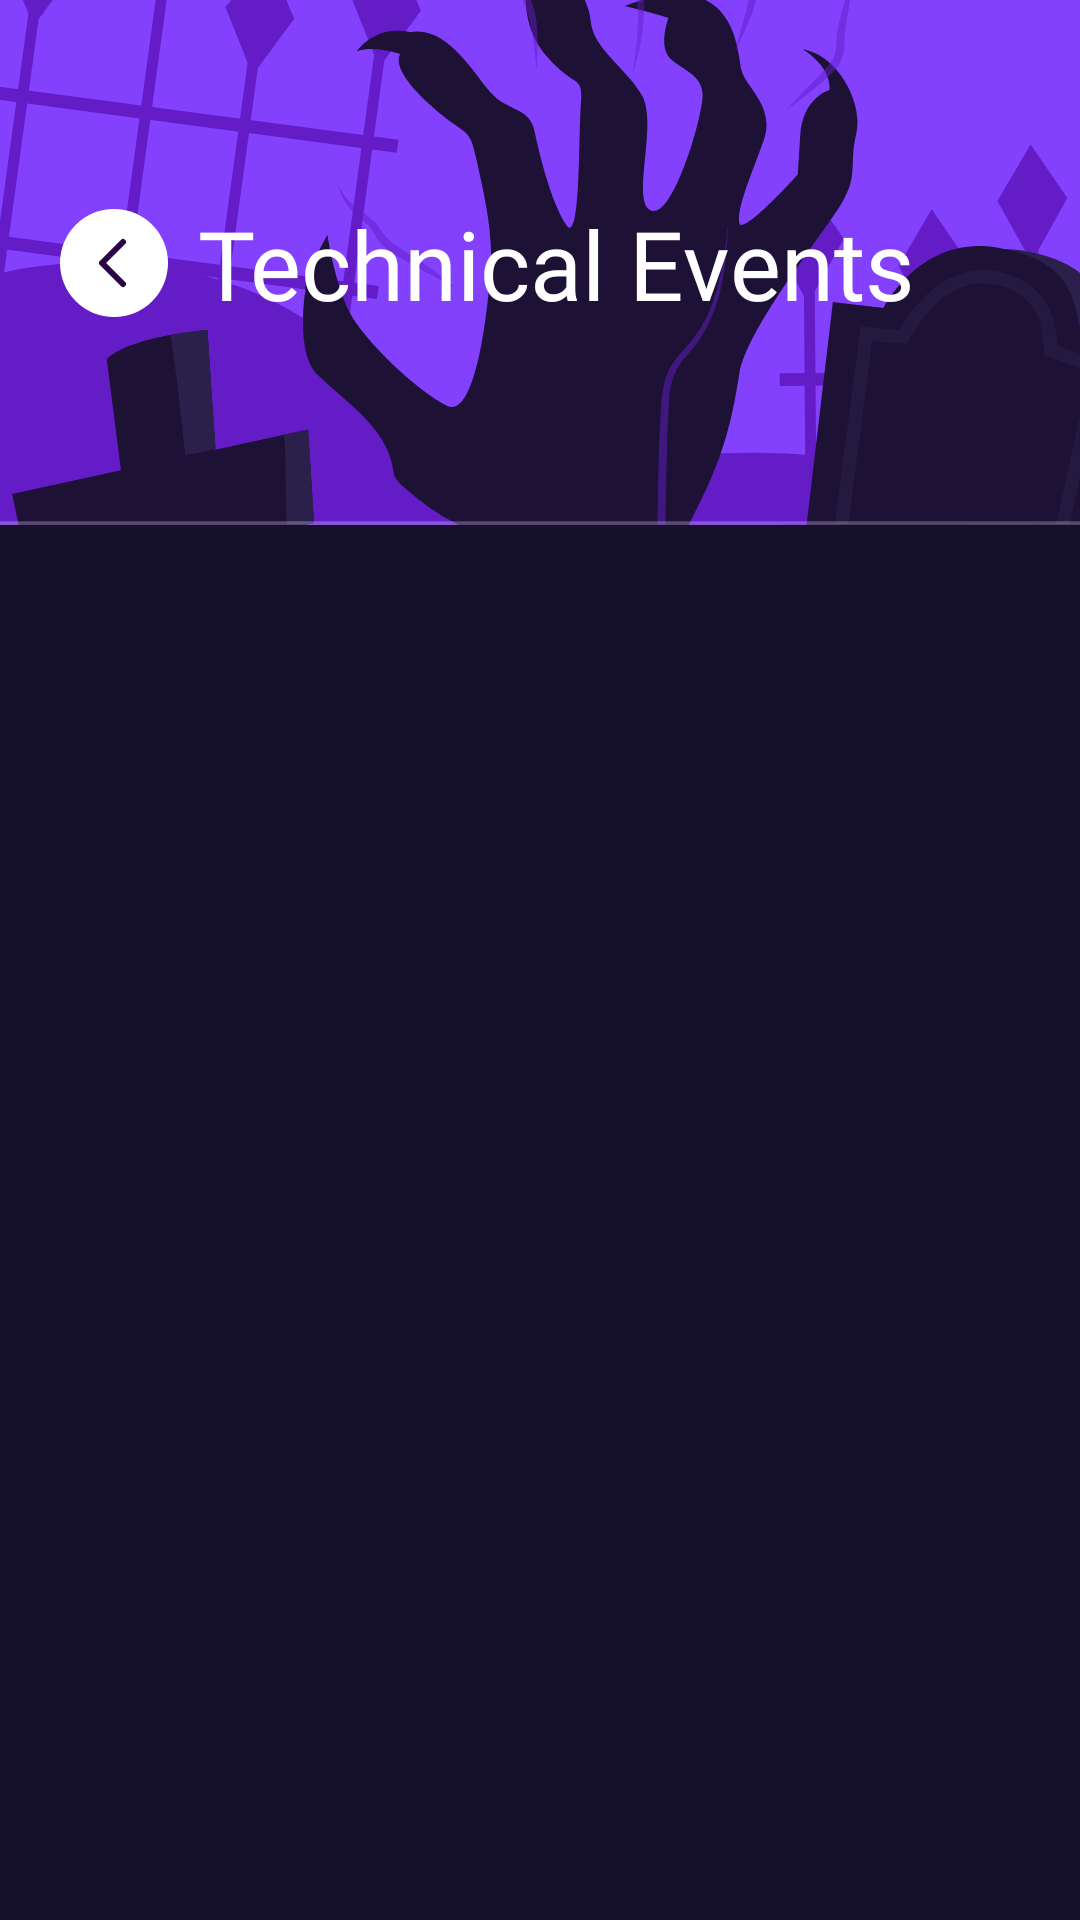

Icon click points for this 1080x1920 phone screenshot, format (x=x, y=y):
back: (x=114, y=263)
